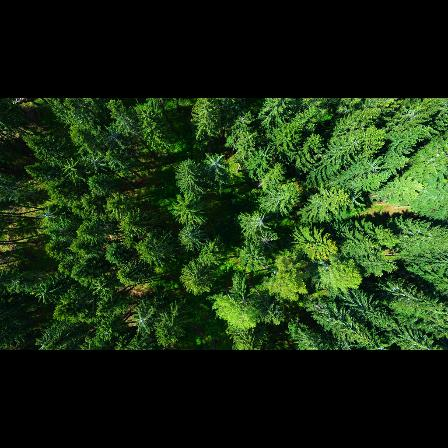Sick: (199, 151, 231, 174), (130, 311, 154, 334), (102, 126, 126, 147), (249, 213, 272, 233), (91, 275, 111, 297), (257, 231, 279, 251), (37, 208, 60, 227), (82, 154, 102, 170)
